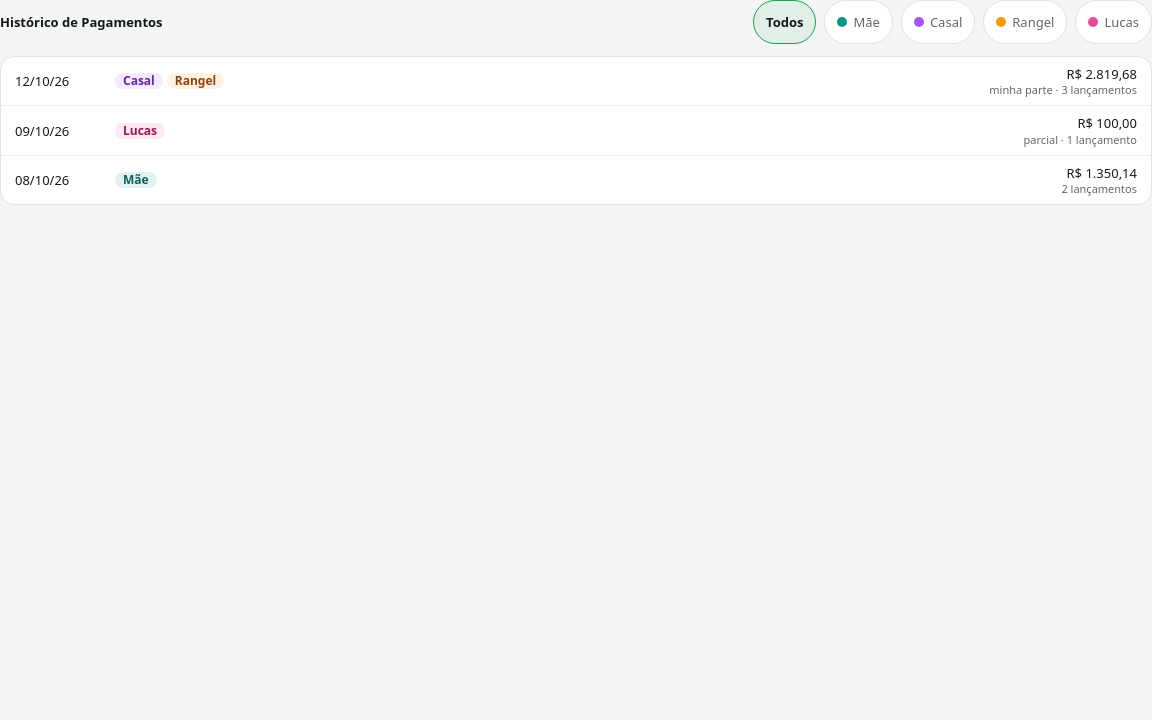
it: Histórico de Pagamentos: o detalhe › a leitura das linhas que falha mostra o erro com 'Tentar de novo'
The width and height of the screenshot is (1152, 720).
Expected: the list named "Pagamentos" is shown, [0,56,1151,206]
Click the button "08/10/26 Mãe R$ 1.350,14 2 lançamentos" at (42, 180), box [1,156,1151,204]
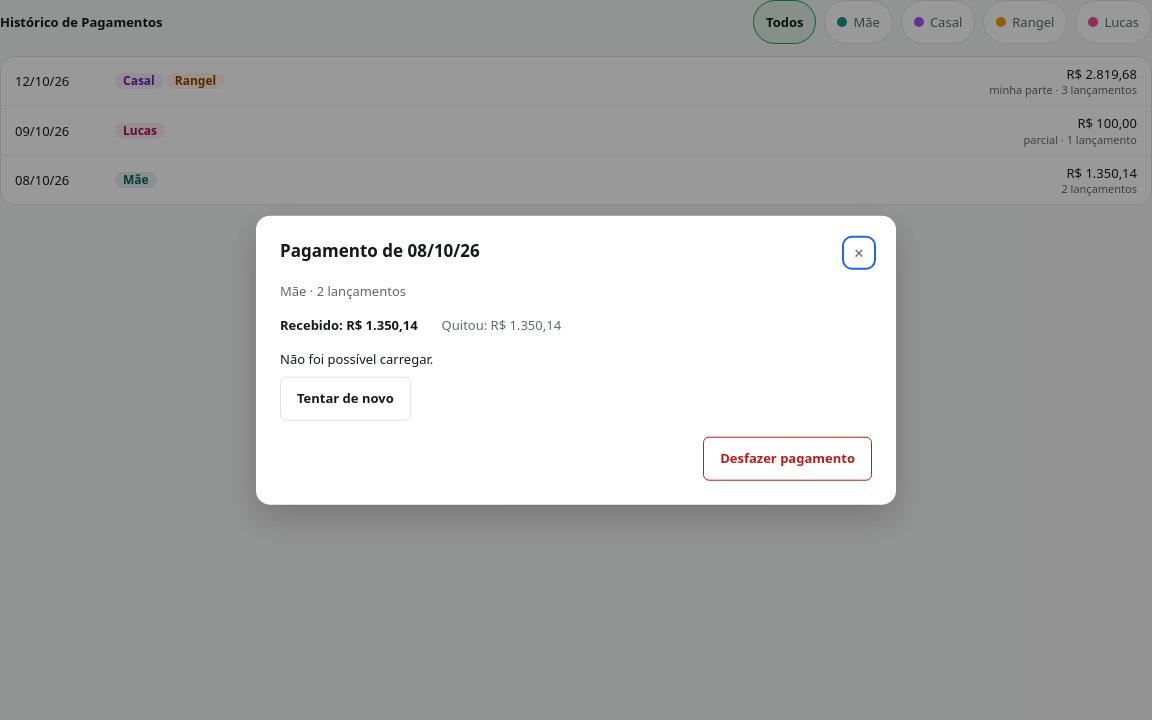
Now the message shows "Não foi possível carregar.", box [280,350,433,368]
Click the button "Tentar de novo" at (345, 398), box [280,376,411,420]
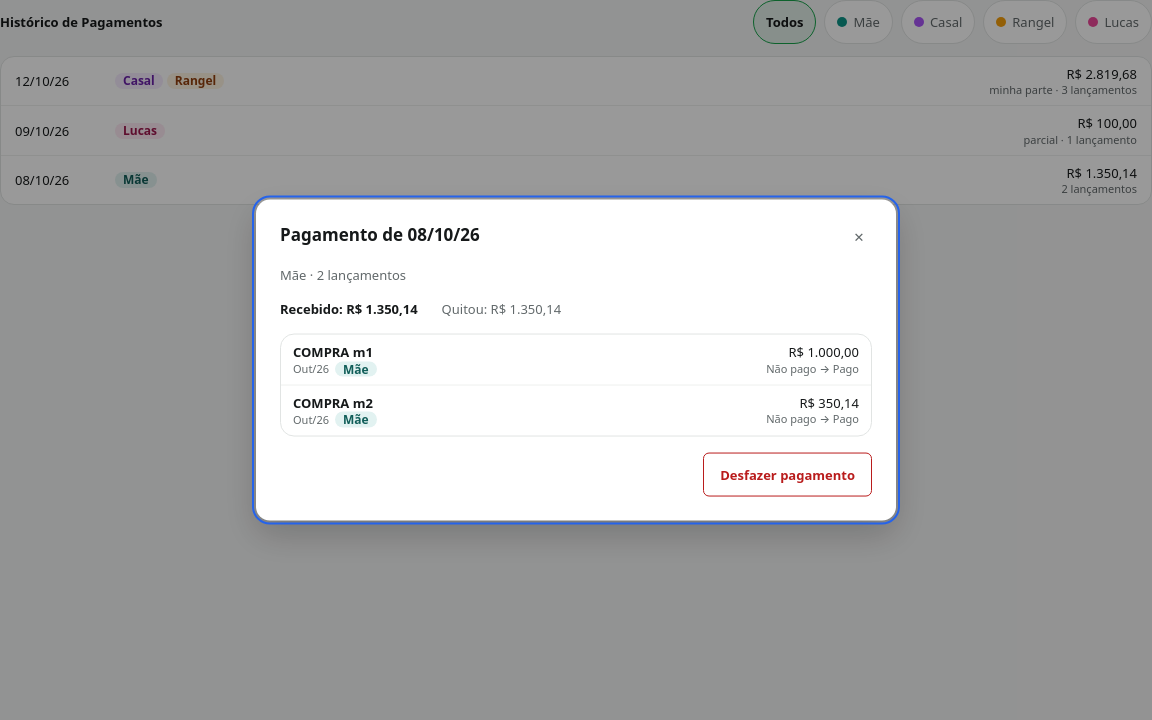
Now the list named "Lançamentos que o pagamento quitou" is shown, box [280,334,872,436]
